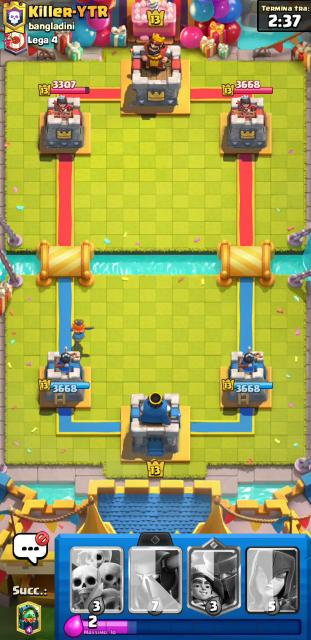ally_melee: (70, 319, 94, 348)
